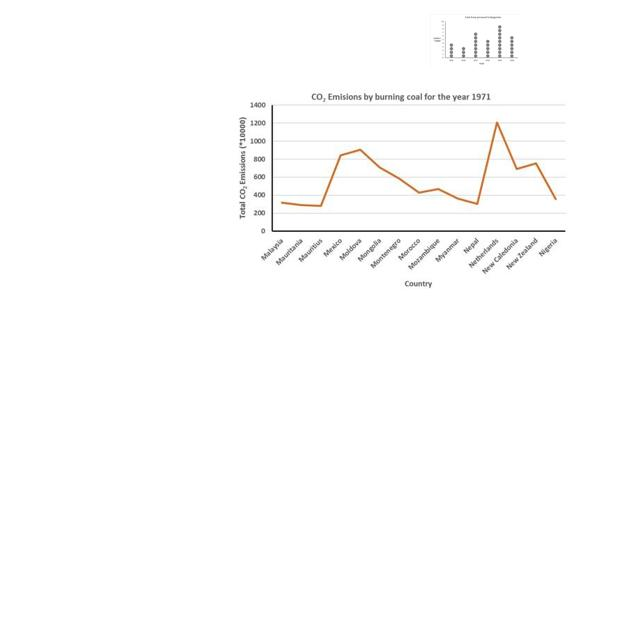Graph: (233, 89, 570, 289), (430, 14, 520, 67)
